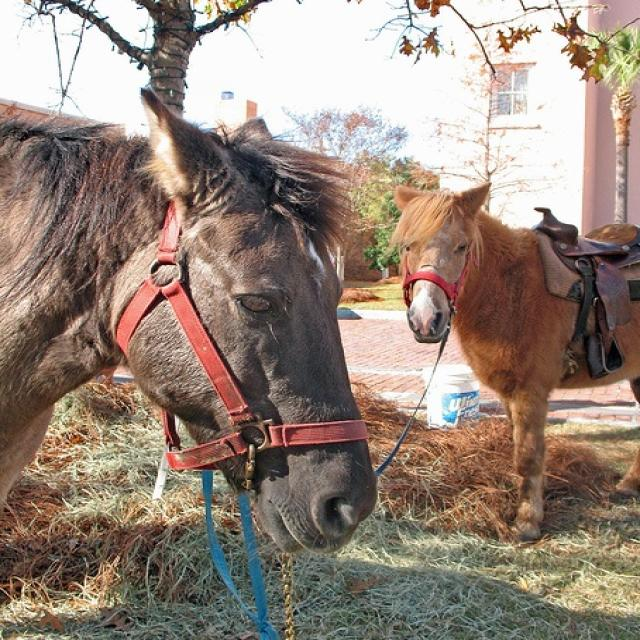horse: (1, 85, 379, 554), (390, 183, 640, 541)
